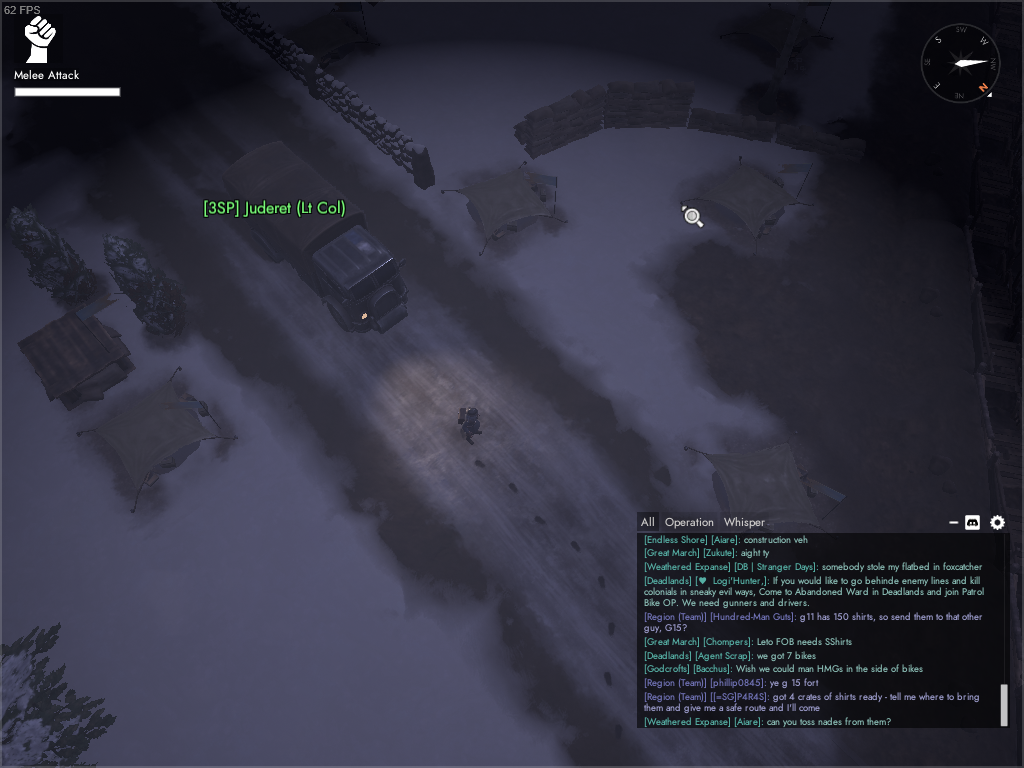foxhole: (73, 366, 241, 516), (684, 430, 848, 551), (674, 153, 818, 258), (440, 160, 573, 259), (717, 1, 838, 92), (280, 1, 381, 71)
pillbox: (17, 310, 137, 414)
player: (457, 405, 484, 445)
sandbag: (512, 84, 603, 159), (602, 78, 695, 130), (775, 121, 868, 167), (689, 105, 777, 146)
truck: (221, 139, 410, 338)
